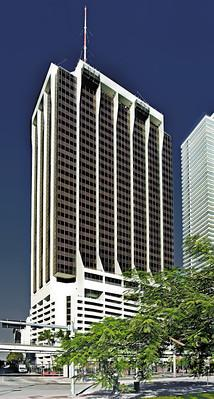building: (23, 57, 176, 366)
